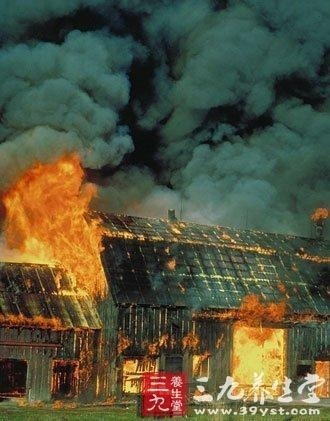fire: (2, 154, 115, 315), (218, 296, 290, 401), (311, 358, 329, 396), (310, 204, 328, 220)
